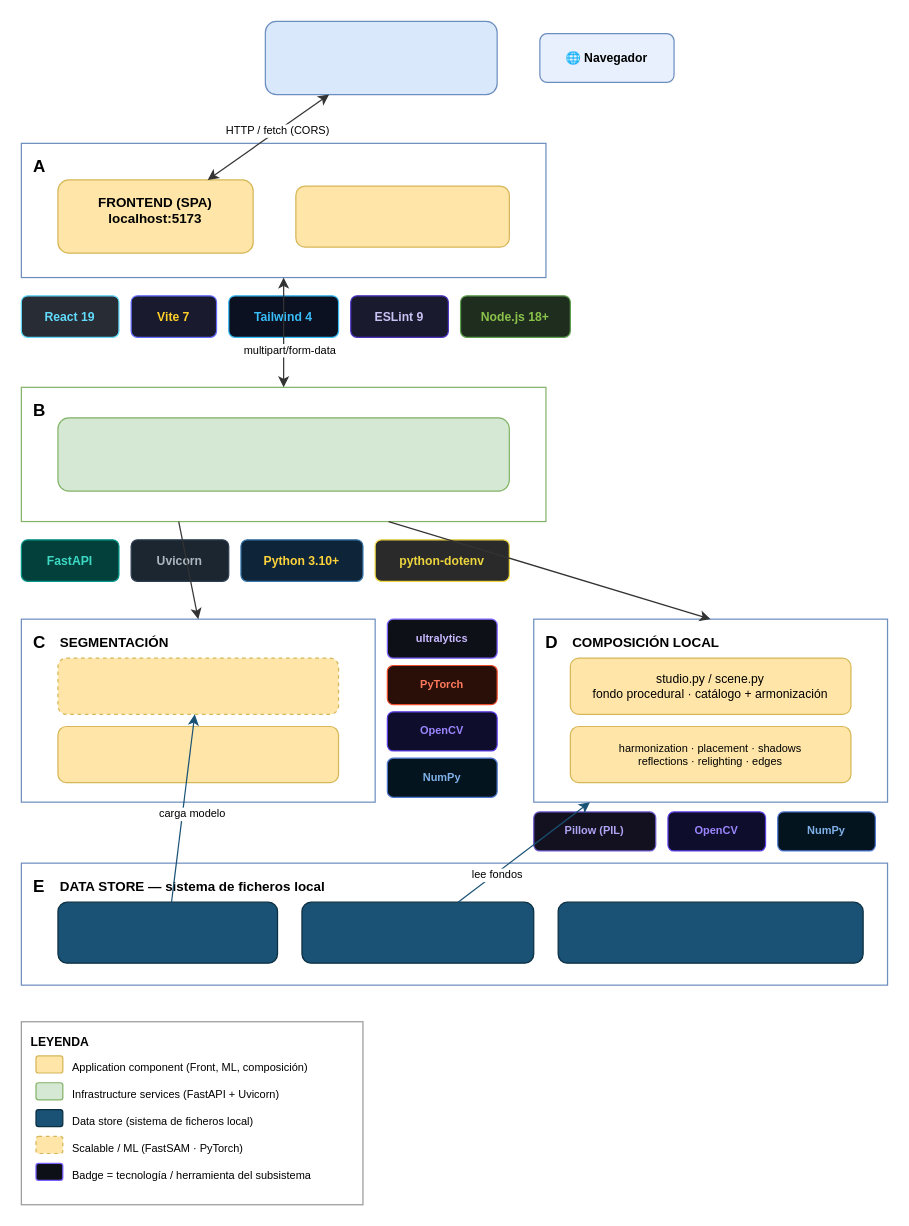
This 909x1226 diagram has some shape labels left out. Here are the shapes that lost their labels. From the top down, the centre of each, then its label:
At point 380,57: "USUARIO (sube imagen + dibuja bbox)".
At point 402,216: "Canvas bbox interactivo + descarga PNG".
At point 283,454: "API REST endpoints /segment · /compose · /backgrounds localhost:8000".
At point 198,685: "FastSAM-s (inferencia) [ Scalable / ML ]".
At point 198,754: "segmentation.py + utils.py máscara RGBA · Canny bbox".
At point 167,932: "models/FastSAM-s.pt".
At point 417,932: "backgrounds/ (catálogo)".
At point 710,932: "debug_segmentation/ · debug_auto/".
